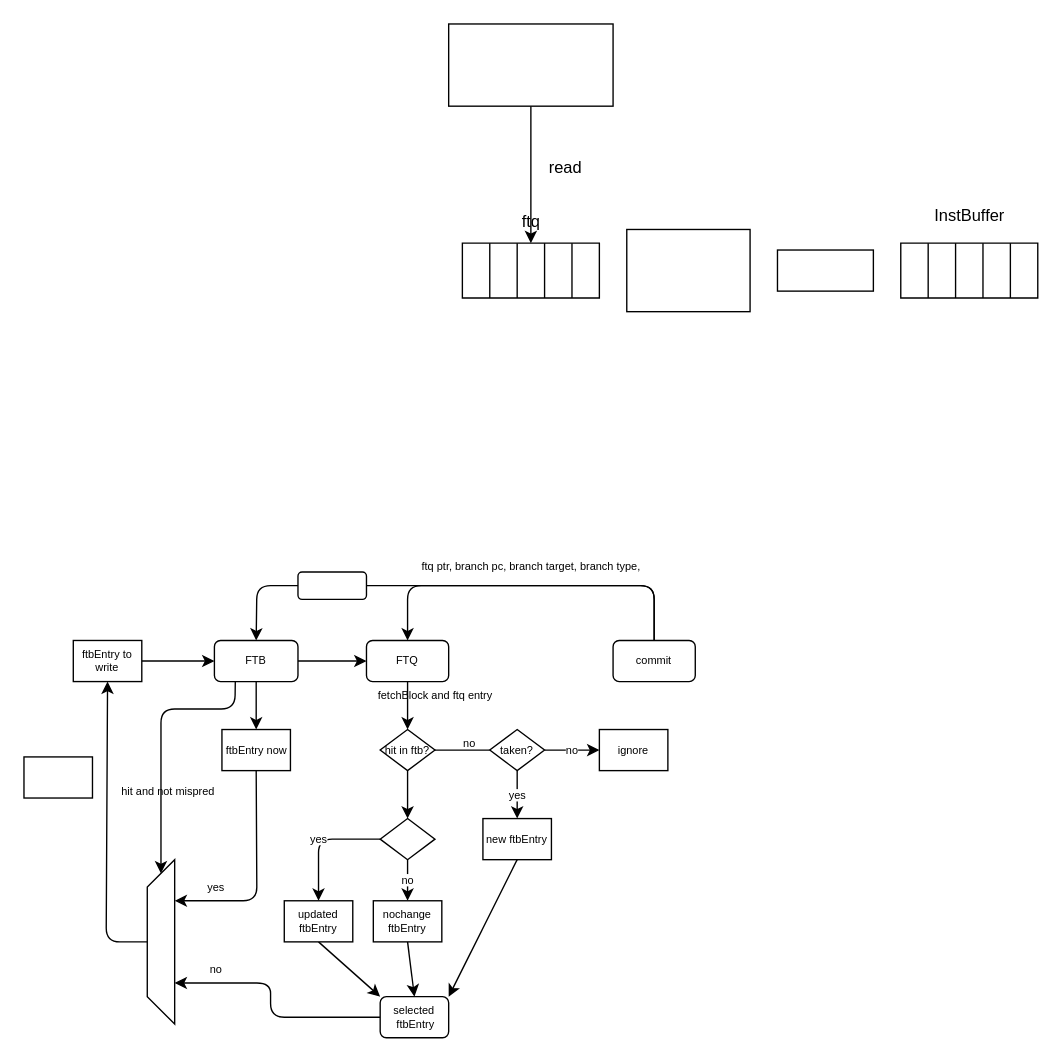
This 1062x1062 diagram has some shape labels left out. The centre of each missing label's shape, as x and y in pixels:
check: (824,270)
ICache: (687,270)
if is L0FTB update counter: (57,777)
IntBlock: (530,64)
mispred?: (407,838)
tag,index generate: (331,585)
